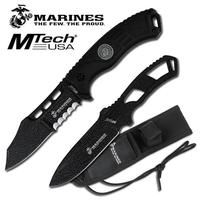knife: (4, 9, 158, 173), (45, 52, 185, 190)
